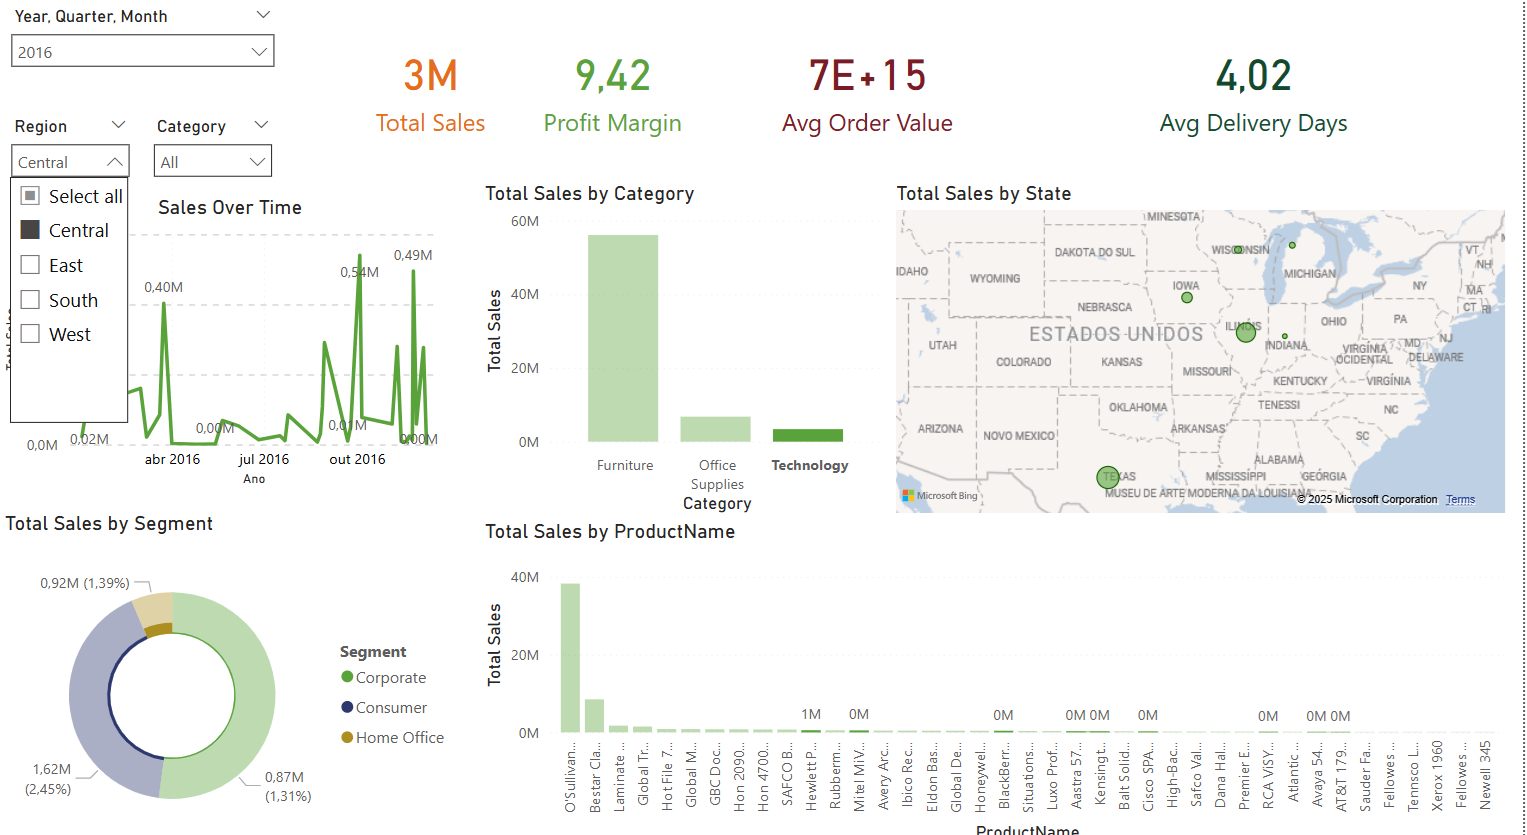

The dashboard page shown, as its layout file describes it:
{"tool":"powerbi","page":{"name":"Página 1","canvas":[1280,720],"ordinal":0},"visuals":[{"type":"slicer","fields":{"Values":["dim_data.Year","dim_data.Quarter","dim_data.Month"]},"box":[0,0,241,81],"z":0},{"type":"slicer","fields":{"Values":["dim_cliente.Region"]},"box":[0,92.8,119.5,104.7],"z":1000},{"type":"slicer","fields":{"Values":["dim_produto.Category"]},"box":[119.7,92.8,119.7,104.8],"z":2000},{"type":"card","fields":{"Values":["fact_vendas.Profit Margin"]},"box":[445,0,140.7,145.7],"z":3000},{"type":"card","fields":{"Values":["fact_vendas.Total Sales"]},"box":[290.3,0,143.7,145.7],"z":4000},{"type":"card","fields":{"Values":["fact_vendas.Avg Order Value"]},"box":[605.6,0,247.4,145.7],"z":5000},{"type":"card","fields":{"Values":["fact_vendas.Avg Delivery Days"]},"box":[928.8,0,249.4,145.7],"z":6000},{"type":"lineChart","title":"Sales Over Time","fields":{"Y":["fact_vendas.Total Sales"],"Category":["dim_data.Order Date.Variation.Hierarquia de datas.Ano","dim_data.Order Date.Variation.Hierarquia de datas.Trimestre","dim_data.Order Date.Variation.Hierarquia de datas.Mês","dim_data.Order Date.Variation.Hierarquia de datas.Dia"]},"box":[0,163.6,388.1,249.4],"z":7000},{"type":"clusteredColumnChart","fields":{"Category":["dim_produto.Category"],"Y":["fact_vendas.Total Sales"]},"box":[403.2,152,345.3,283.8],"z":8000},{"type":"columnChart","fields":{"Y":["fact_vendas.Total Sales"],"Category":["dim_produto.ProductName"]},"box":[403.1,436,866,284.3],"z":9000},{"type":"donutChart","fields":{"Y":["fact_vendas.Total Sales"],"Category":["dim_cliente.Segment"]},"box":[0,429.6,388.3,290.8],"z":10000},{"type":"map","fields":{"Size":["fact_vendas.Total Sales"],"Category":["dim_cliente.State"]},"box":[748.5,152,521,283.8],"z":11000}]}

Visuals, with their boxes in screenshot pixels (x1, y1, x2, y2), scaled from the page's 1280x720 canvas onto the 1527x835 screenshot:
slicer - dim_data.Year x dim_data.Quarter: Rect(0, 0, 288, 94)
slicer - dim_cliente.Region: Rect(0, 108, 143, 229)
slicer - dim_produto.Category: Rect(143, 108, 286, 229)
card - fact_vendas.Profit Margin: Rect(531, 0, 699, 169)
card - fact_vendas.Total Sales: Rect(346, 0, 518, 169)
card - fact_vendas.Avg Order Value: Rect(722, 0, 1018, 169)
card - fact_vendas.Avg Delivery Days: Rect(1108, 0, 1406, 169)
"Sales Over Time" lineChart: Rect(0, 190, 463, 479)
clusteredColumnChart - dim_produto.Category x fact_vendas.Total Sales: Rect(481, 176, 893, 505)
columnChart - fact_vendas.Total Sales x dim_produto.ProductName: Rect(481, 506, 1514, 834)
donutChart - fact_vendas.Total Sales x dim_cliente.Segment: Rect(0, 498, 463, 834)
map - fact_vendas.Total Sales x dim_cliente.State: Rect(893, 176, 1514, 505)
